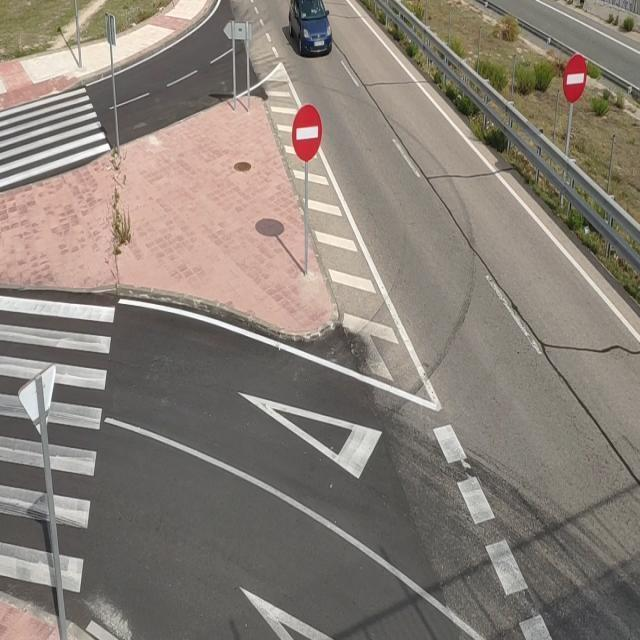Car: (284, 0, 333, 57)
